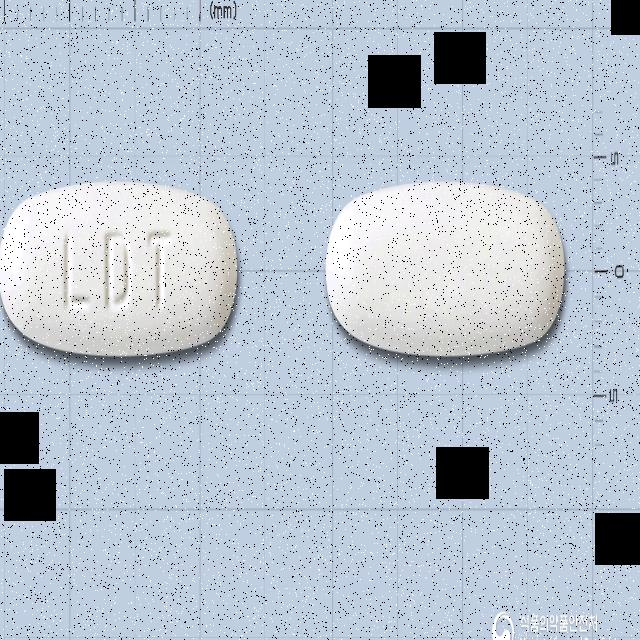Sebivo Tab: (0, 180, 239, 358)
